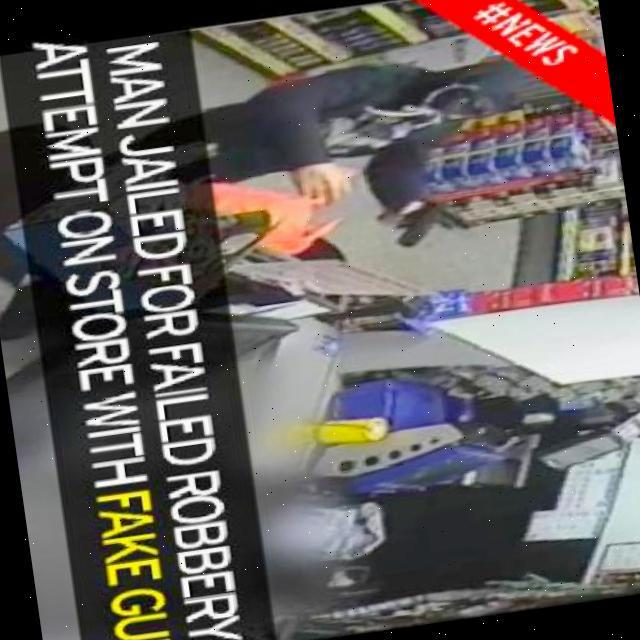gun: (374, 194, 462, 250)
